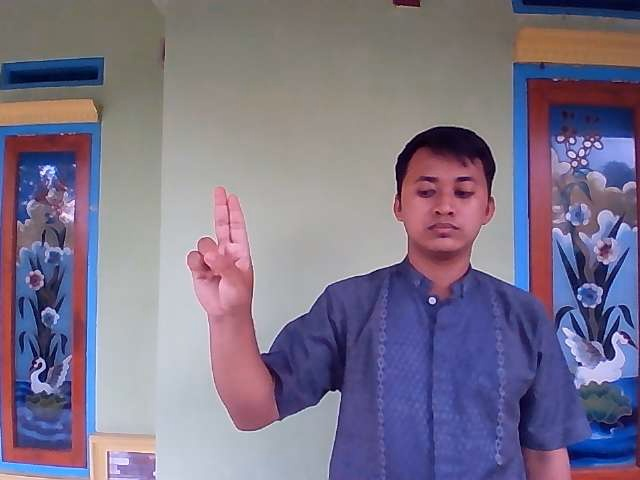U: (180, 184, 262, 320)
